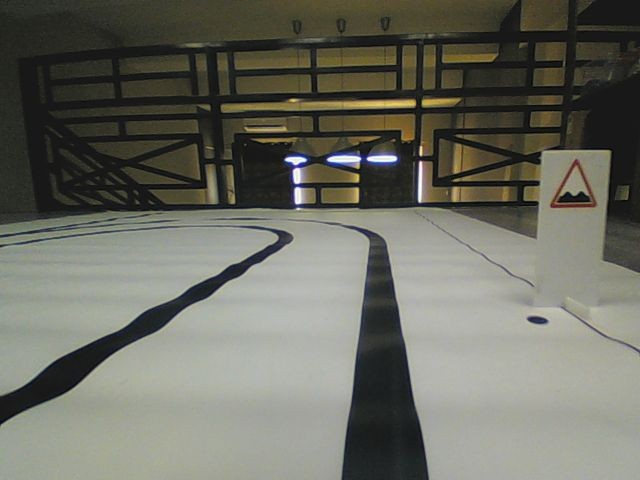Nerov: (549, 158, 598, 210)
